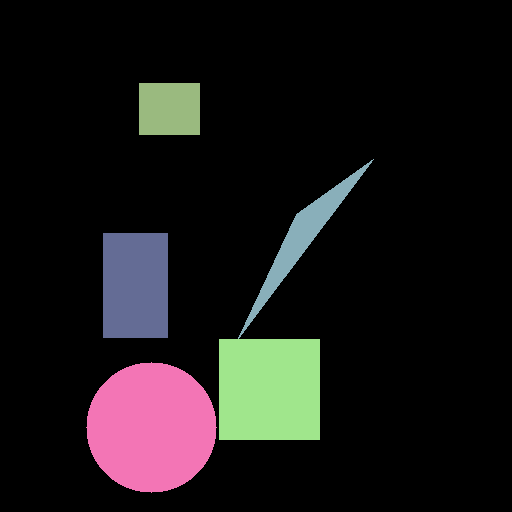circle: (219, 159, 373, 439), (86, 362, 216, 492)
rectangle: (103, 233, 167, 337), (139, 83, 199, 134)
